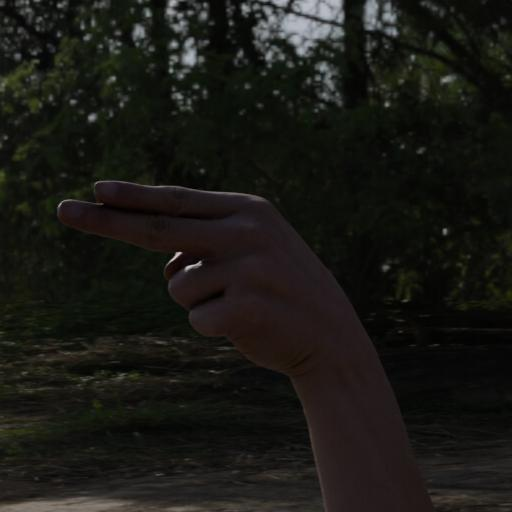H: (33, 163, 325, 375)
